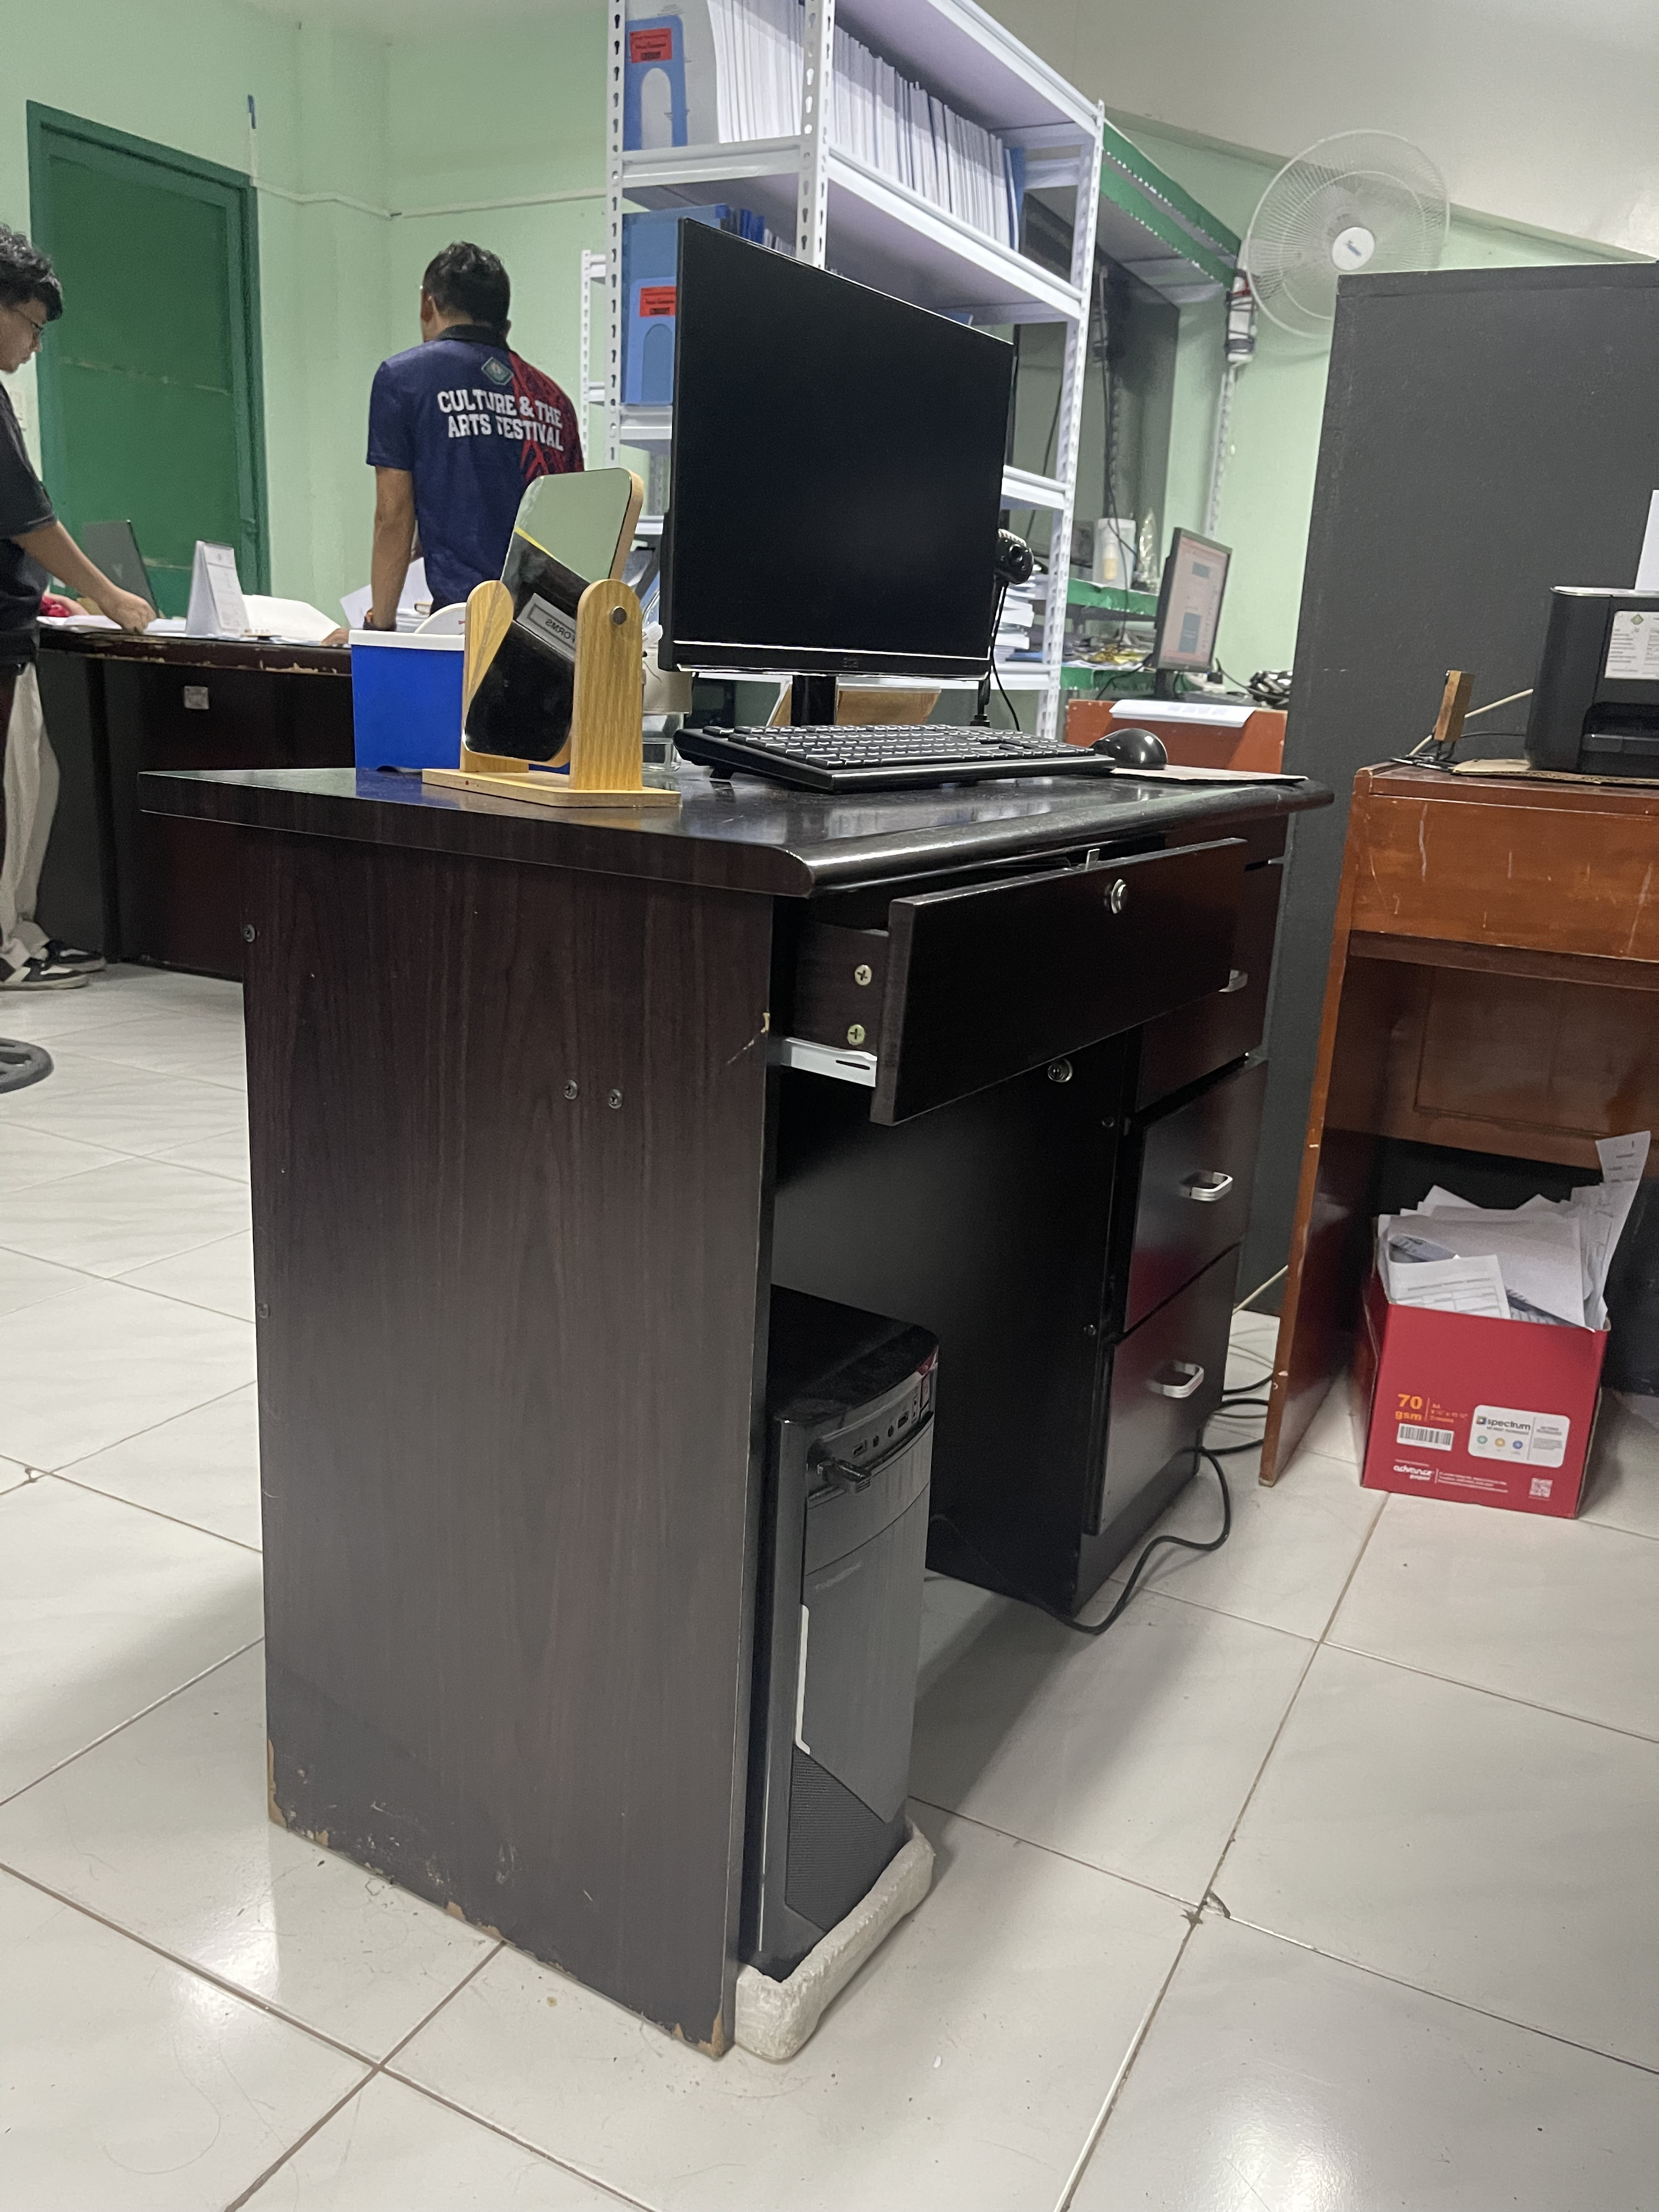table1: (136, 702, 1342, 2059)
